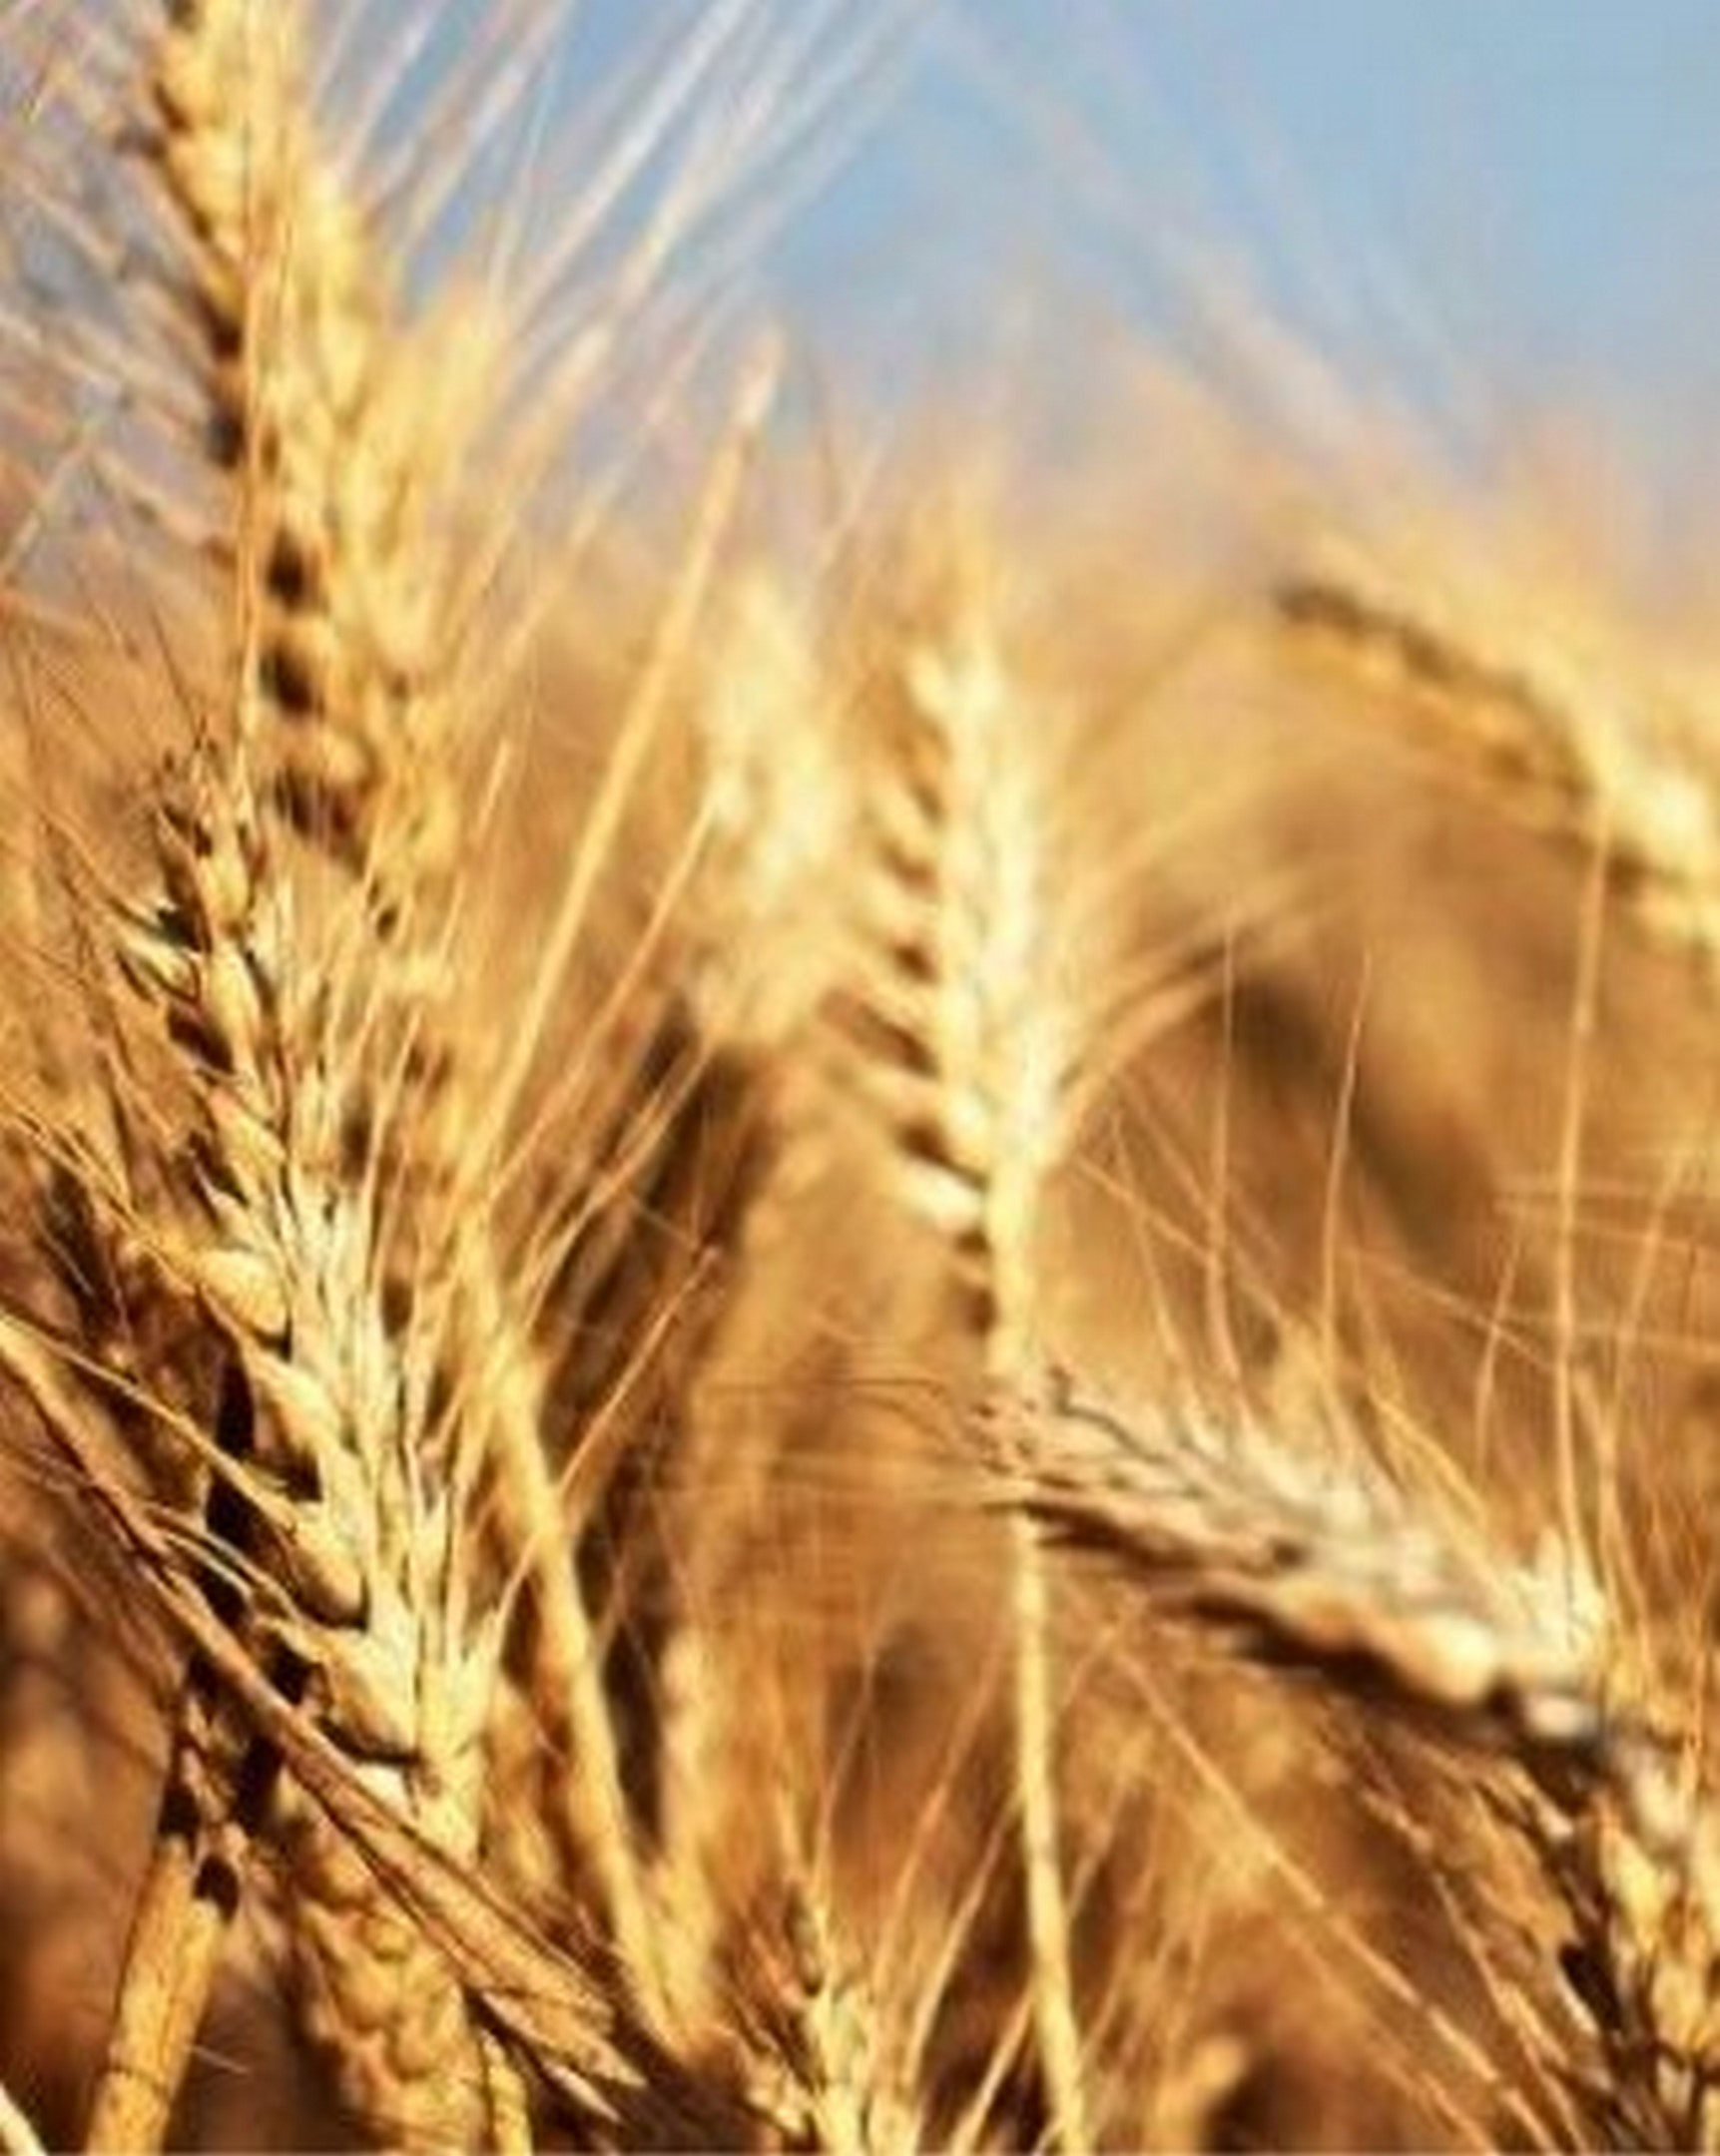Healthy Wheat: (109, 803, 527, 1786)
